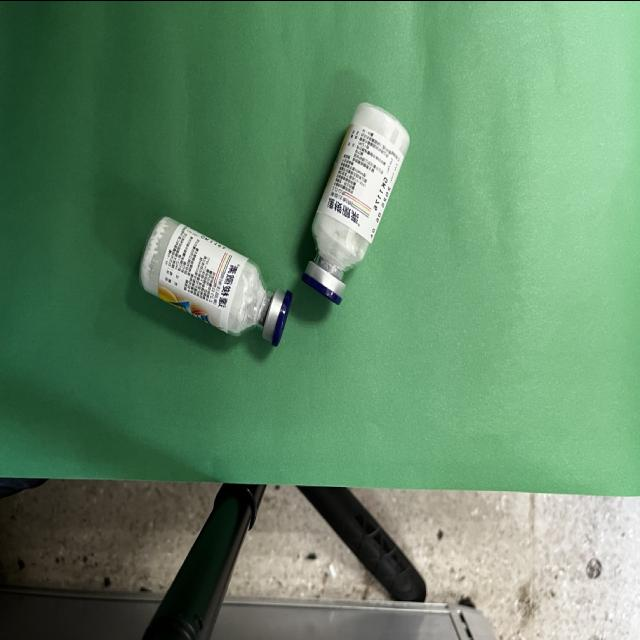Vials: (302, 102, 409, 304), (140, 216, 292, 345)
